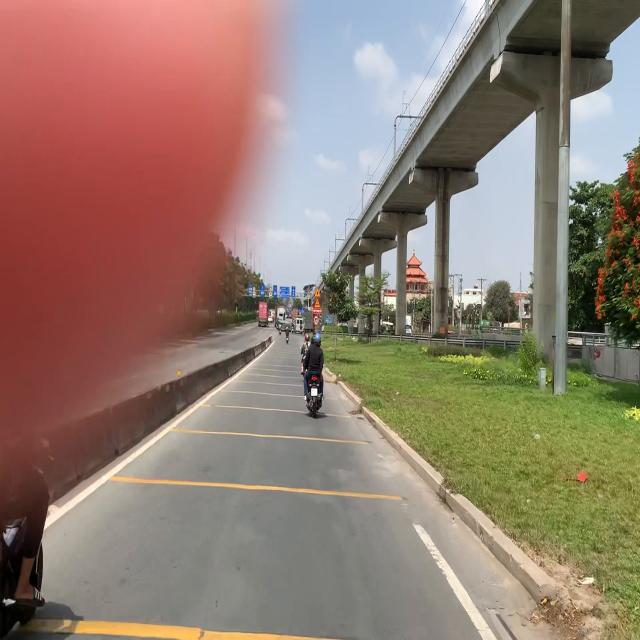Cam re phai: (313, 315, 320, 326)
Giao voi duong khong uu tien: (314, 287, 320, 297)
Nguy hiem: (314, 298, 321, 307)
